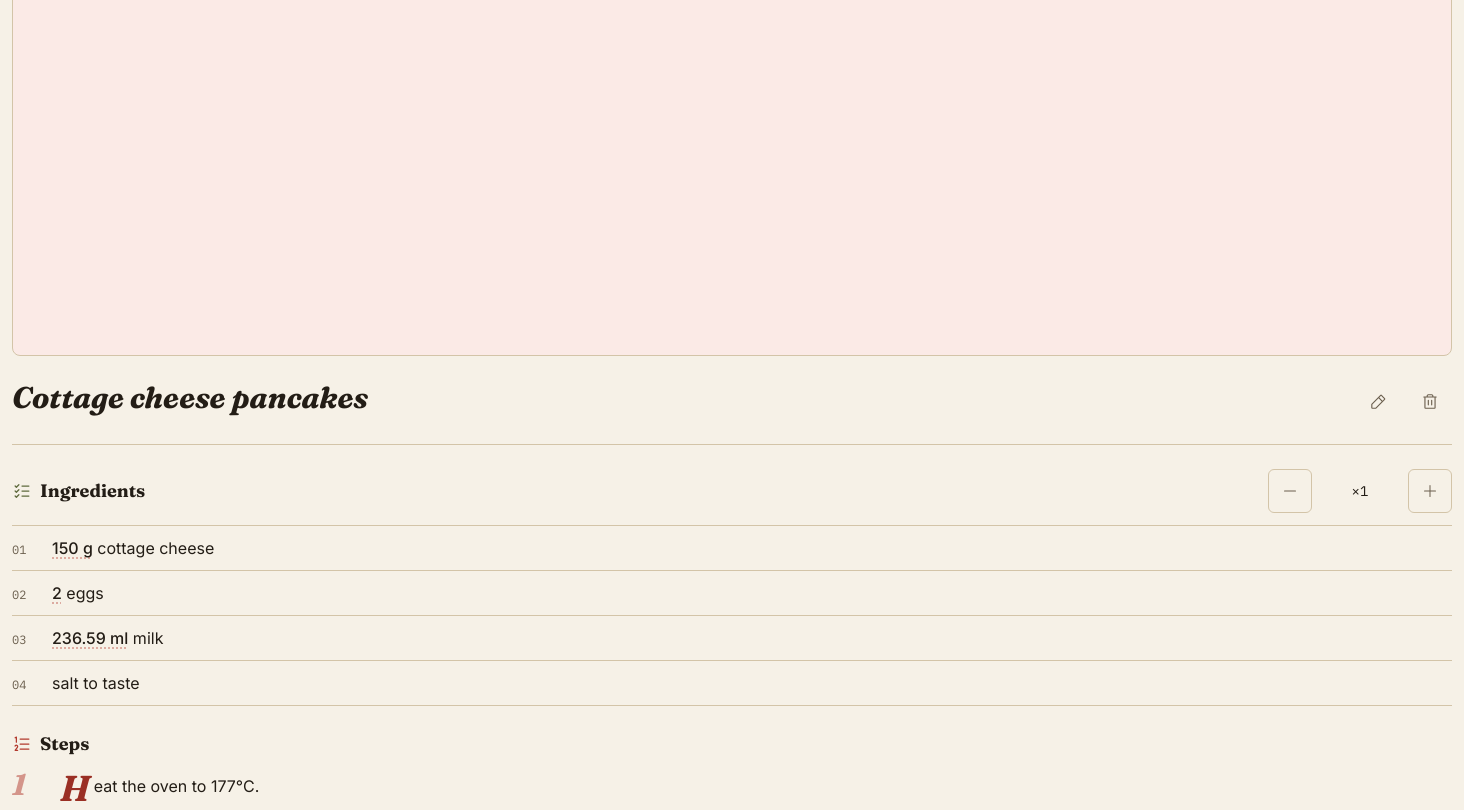
it: RecipeDetailPage — scaling › uses a batch multiplier when the recipe has no servings count
The image size is (1464, 810).
(page scrolled)
Click the button named "Bigger batch": click(1430, 491) [1408,469,1452,513]
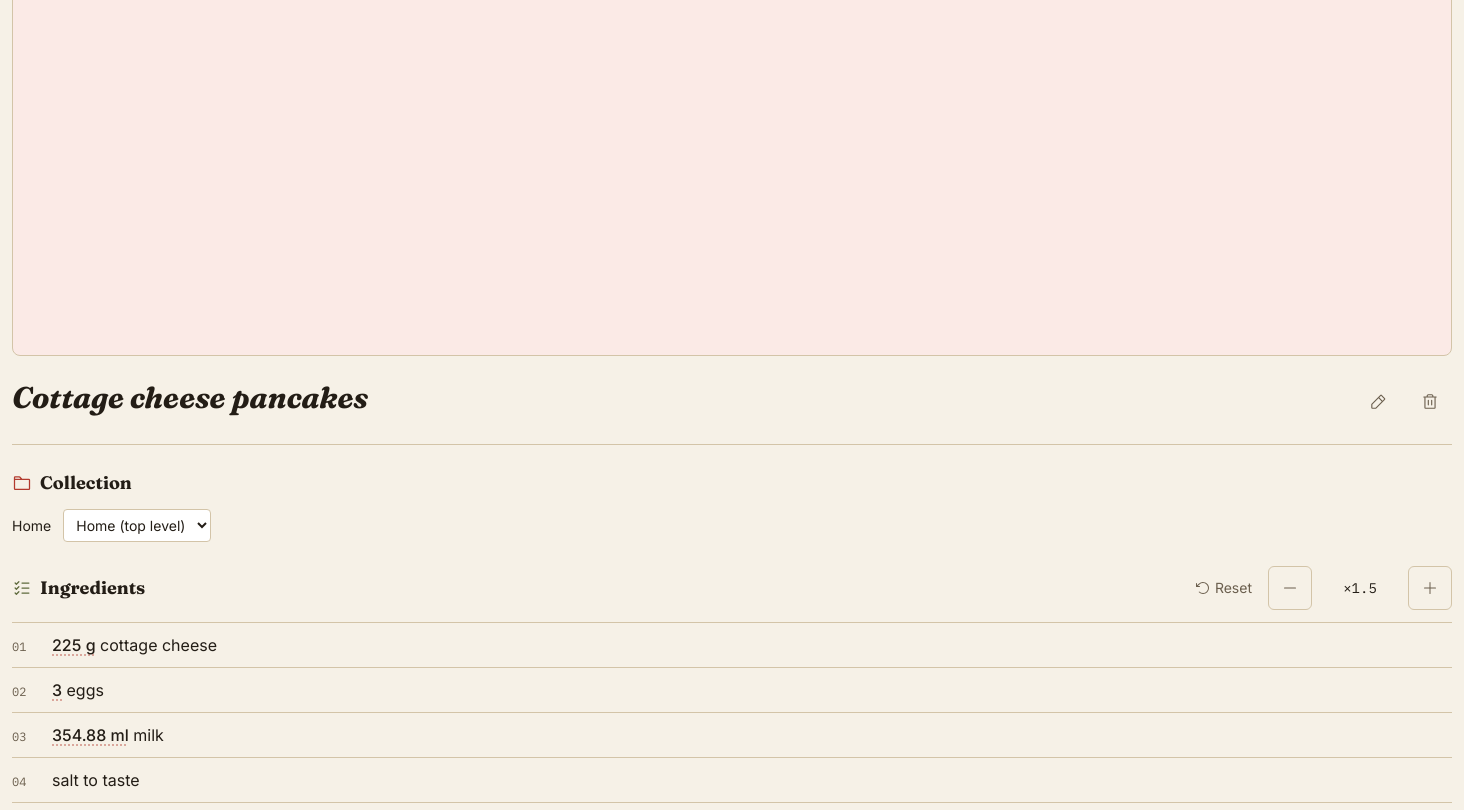
Now the text "×1.5" is shown, box [1343,579,1377,597]
Now the element showing "3 eggs" is shown, box [52,678,104,702]
